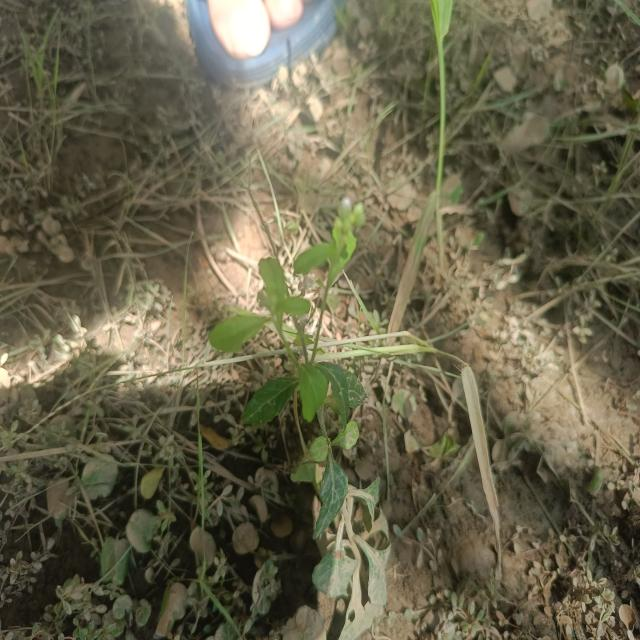weed: (208, 197, 387, 595)
